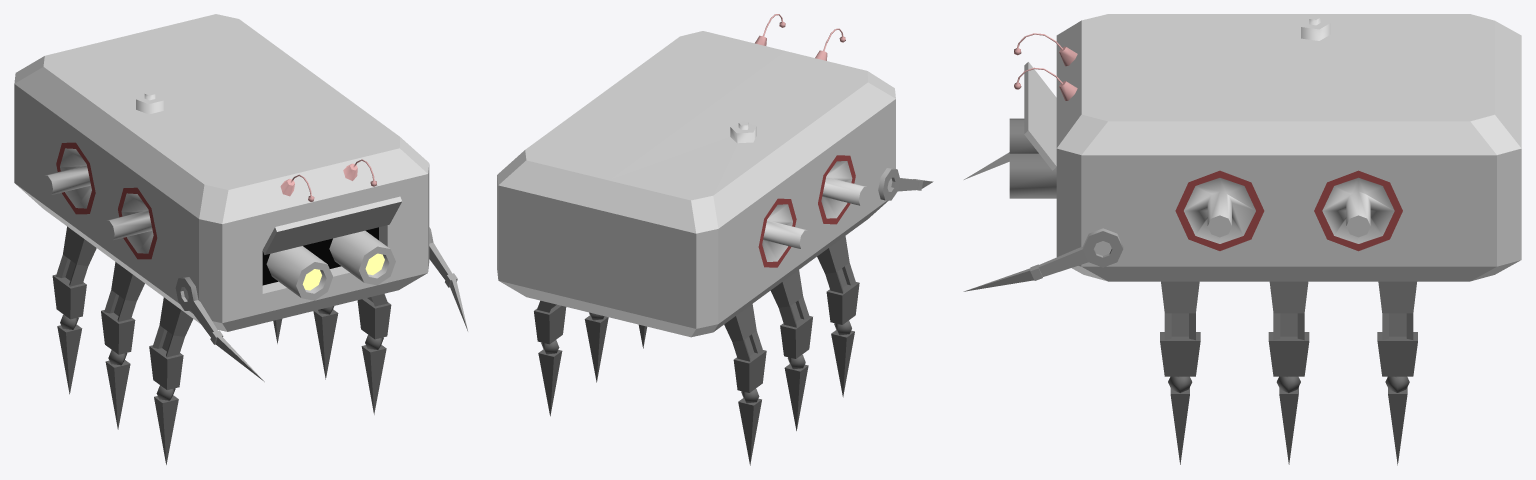
Rendered from Bugbot Model Unwrapped.fbx.
3 renders of one model, left to right at view 1: azimuth 30°, elevation 25°; view 2: azimuth 150°, elevation 25°; view 3: azimuth 270°, elevation 25°, orthographic. The views are drawn at different scales.
Visible parts, largest first — view 1: Bugbot; view 2: Bugbot; view 3: Bugbot.
Part boxes in pixels (bbox=[...]): Bugbot: bbox=[14, 14, 468, 464]; Bugbot: bbox=[497, 14, 933, 465]; Bugbot: bbox=[963, 14, 1521, 465].
Size of the model in its own units: 274 by 291 by 412.
